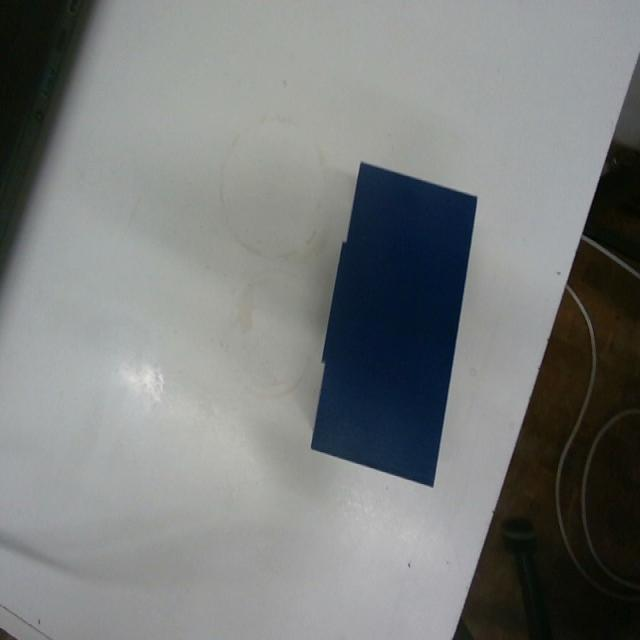Blue Cuboid: (308, 158, 478, 490)
